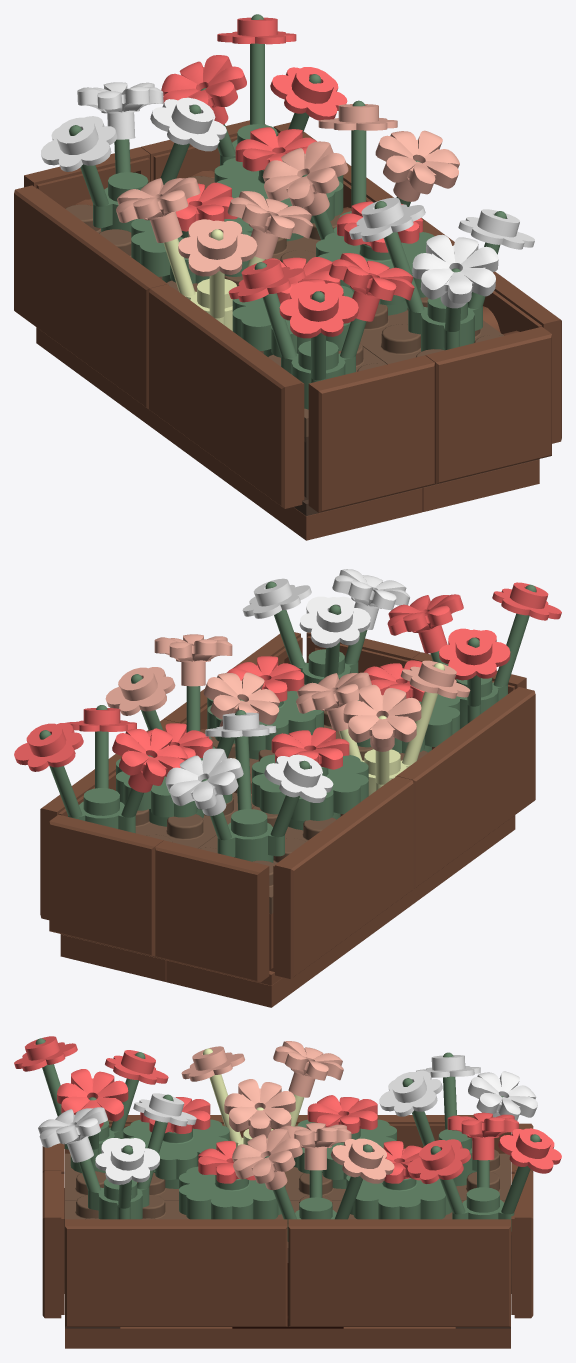
The model's file is flower_box_small2X.fbx.
3 renders of one model, top to bottom at view 1: azimuth 30°, elevation 25°; view 2: azimuth 150°, elevation 25°; view 3: azimuth 270°, elevation 25°, orthographic. The views are drawn at different scales.
Visible parts, largest first — view 1: part.028, part.027, part.022, part.051, part.020, part.044, part.045, part.011, part.037, part.049, part.036, part.057 (+32 smaller); view 2: part.027, part.028, part.021, part.052, part.020, part.015, part.026, part.041, part.007, part.014, part.040, part.049 (+31 smaller); view 3: part.057, part.058, part.050, part.056, part.055, part.019, part.051, part.006, part.045, part.025, part.052, part.041 (+29 smaller).
Part boxes in pixels (box(x1,y1,x2,y2)): part.028: box(149, 284, 304, 508); part.027: box(14, 185, 168, 409); part.022: box(308, 355, 434, 512); part.051: box(425, 326, 551, 484); part.020: box(36, 327, 422, 540); part.044: box(412, 234, 498, 308); part.045: box(374, 201, 506, 351); part.011: box(254, 262, 366, 409); part.037: box(375, 130, 459, 201); part.049: box(187, 176, 503, 364); part.036: box(262, 141, 348, 215); part.057: box(422, 221, 561, 443); part.027: box(273, 776, 413, 979); part.028: box(395, 687, 535, 889); part.021: box(155, 840, 269, 982); part.052: box(49, 814, 163, 956); part.020: box(166, 815, 515, 1007); part.015: box(201, 710, 310, 862); part.026: box(252, 754, 368, 830); part.041: box(39, 705, 152, 833); part.007: box(343, 684, 421, 751); part.014: box(165, 748, 243, 815); part.040: box(112, 728, 188, 792); part.049: box(135, 711, 340, 848); part.057: box(65, 1219, 287, 1326); part.058: box(288, 1219, 510, 1326); part.050: box(65, 1327, 510, 1348); part.056: box(179, 1166, 285, 1219); part.055: box(346, 1175, 451, 1219); part.019: box(65, 1149, 510, 1200); part.051: box(42, 1170, 64, 1318); part.006: box(224, 1079, 295, 1138); part.045: box(78, 1094, 173, 1219); part.025: box(123, 1119, 229, 1188); part.052: box(511, 1170, 533, 1318); part.041: box(430, 1134, 540, 1231).
Bounding box in the file's own units: 4235 × 3419 × 7855.
